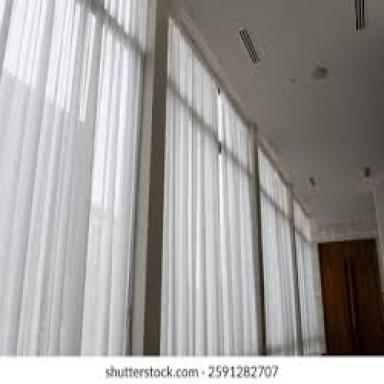glass_panel: (221, 93, 257, 350), (295, 198, 324, 352)
